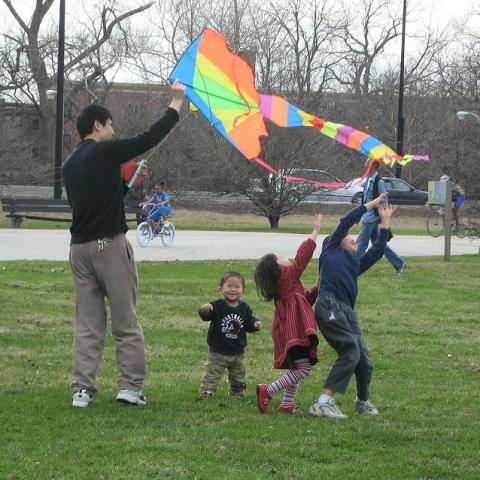car: (246, 168, 348, 202), (307, 176, 368, 204), (384, 178, 428, 208)
